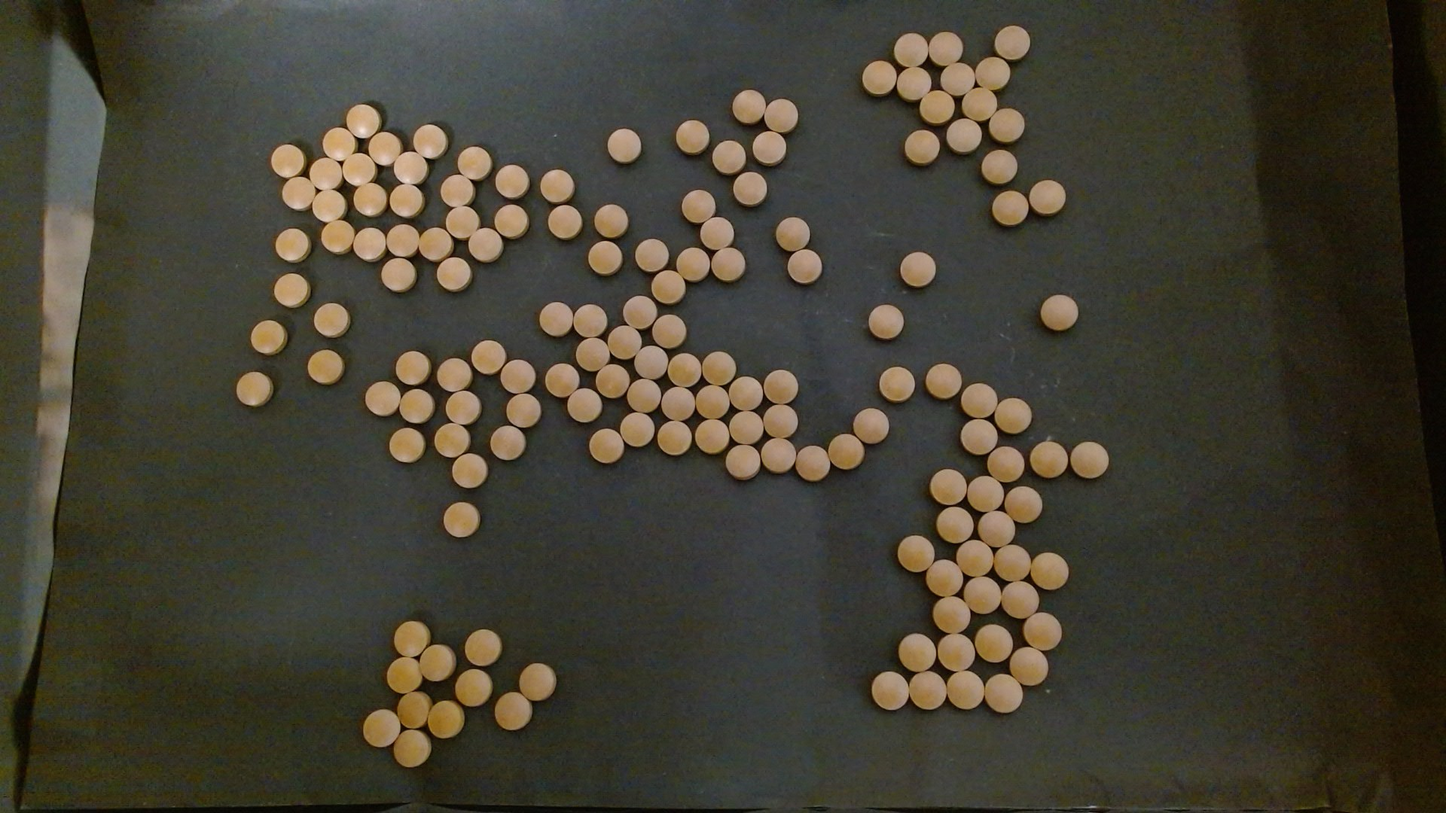Circle: (233, 370, 276, 409), (1038, 294, 1080, 333), (517, 662, 557, 702), (1008, 646, 1048, 686), (392, 728, 432, 768), (908, 670, 947, 711), (1069, 440, 1109, 479), (1029, 551, 1069, 590), (493, 691, 532, 731), (1023, 611, 1063, 650), (984, 673, 1023, 713), (871, 670, 909, 711), (897, 632, 936, 671), (362, 709, 401, 748), (932, 595, 971, 634), (935, 505, 974, 544), (895, 534, 935, 572), (1000, 580, 1038, 620), (866, 303, 905, 341), (929, 467, 967, 506), (974, 623, 1012, 662), (937, 632, 975, 671), (427, 699, 465, 738), (946, 671, 984, 710), (994, 543, 1032, 582), (962, 576, 1001, 614), (1029, 440, 1067, 478), (454, 668, 492, 706), (464, 629, 502, 667), (392, 619, 430, 657), (924, 362, 962, 400), (960, 418, 998, 456), (1004, 484, 1042, 522), (441, 501, 480, 538), (249, 318, 287, 355), (388, 426, 426, 463), (994, 397, 1032, 434), (272, 272, 310, 309), (977, 509, 1014, 547), (926, 559, 963, 597), (967, 474, 1004, 512), (956, 539, 993, 577), (899, 251, 936, 288), (1028, 178, 1065, 215), (878, 365, 915, 402), (450, 452, 487, 489), (386, 656, 423, 693), (960, 382, 997, 419), (434, 422, 471, 459), (861, 59, 898, 96), (606, 126, 642, 164), (307, 349, 345, 385), (313, 302, 350, 338), (274, 227, 311, 263), (418, 644, 454, 681), (988, 106, 1025, 142), (435, 256, 472, 292), (919, 88, 956, 124), (993, 24, 1030, 60), (412, 123, 448, 160), (892, 32, 929, 68), (505, 391, 541, 428), (493, 202, 529, 239), (987, 445, 1023, 482), (991, 189, 1027, 225), (981, 148, 1017, 184), (904, 129, 940, 165), (853, 408, 889, 444), (490, 425, 526, 461), (588, 428, 624, 464), (725, 444, 761, 480), (828, 434, 864, 470), (395, 349, 431, 385), (380, 257, 416, 293), (622, 294, 658, 330), (728, 410, 764, 446), (761, 437, 796, 474), (345, 102, 380, 139), (352, 181, 387, 218), (787, 248, 822, 284), (731, 170, 766, 206), (675, 118, 710, 154), (751, 130, 786, 166), (945, 117, 980, 153), (711, 139, 746, 175), (467, 227, 503, 262), (399, 388, 435, 423), (896, 65, 931, 101), (593, 203, 628, 239), (270, 142, 305, 178), (364, 381, 400, 416), (538, 300, 573, 336), (457, 145, 493, 180), (320, 218, 355, 254), (444, 390, 480, 425), (281, 175, 316, 211), (311, 187, 346, 223), (436, 357, 472, 392), (763, 403, 798, 439), (499, 359, 535, 394), (651, 313, 686, 349), (572, 303, 607, 339), (795, 446, 830, 482), (548, 204, 584, 239), (396, 692, 430, 729), (587, 239, 621, 276), (775, 216, 810, 251), (494, 163, 529, 198), (634, 238, 669, 273), (694, 419, 729, 454), (418, 226, 453, 261), (389, 183, 424, 218), (575, 337, 610, 372), (633, 344, 668, 379), (731, 88, 765, 124), (962, 86, 998, 120), (975, 56, 1011, 90), (392, 151, 428, 185), (471, 339, 505, 375), (928, 30, 962, 66), (566, 388, 602, 422), (661, 386, 695, 422), (728, 376, 762, 412), (764, 97, 798, 132), (540, 168, 575, 202), (681, 189, 715, 224), (764, 369, 799, 403), (352, 226, 386, 261), (620, 412, 654, 447), (651, 269, 685, 304), (657, 420, 691, 455), (368, 131, 402, 166), (342, 152, 377, 186), (440, 173, 475, 207), (594, 363, 629, 397), (712, 246, 745, 282), (941, 62, 975, 96), (700, 216, 734, 250), (702, 351, 736, 385), (545, 363, 579, 397), (309, 157, 343, 191), (695, 385, 729, 419), (607, 324, 641, 358), (322, 126, 355, 161), (667, 352, 700, 387), (627, 378, 660, 413), (676, 247, 709, 281), (386, 223, 419, 257), (446, 205, 478, 239)
